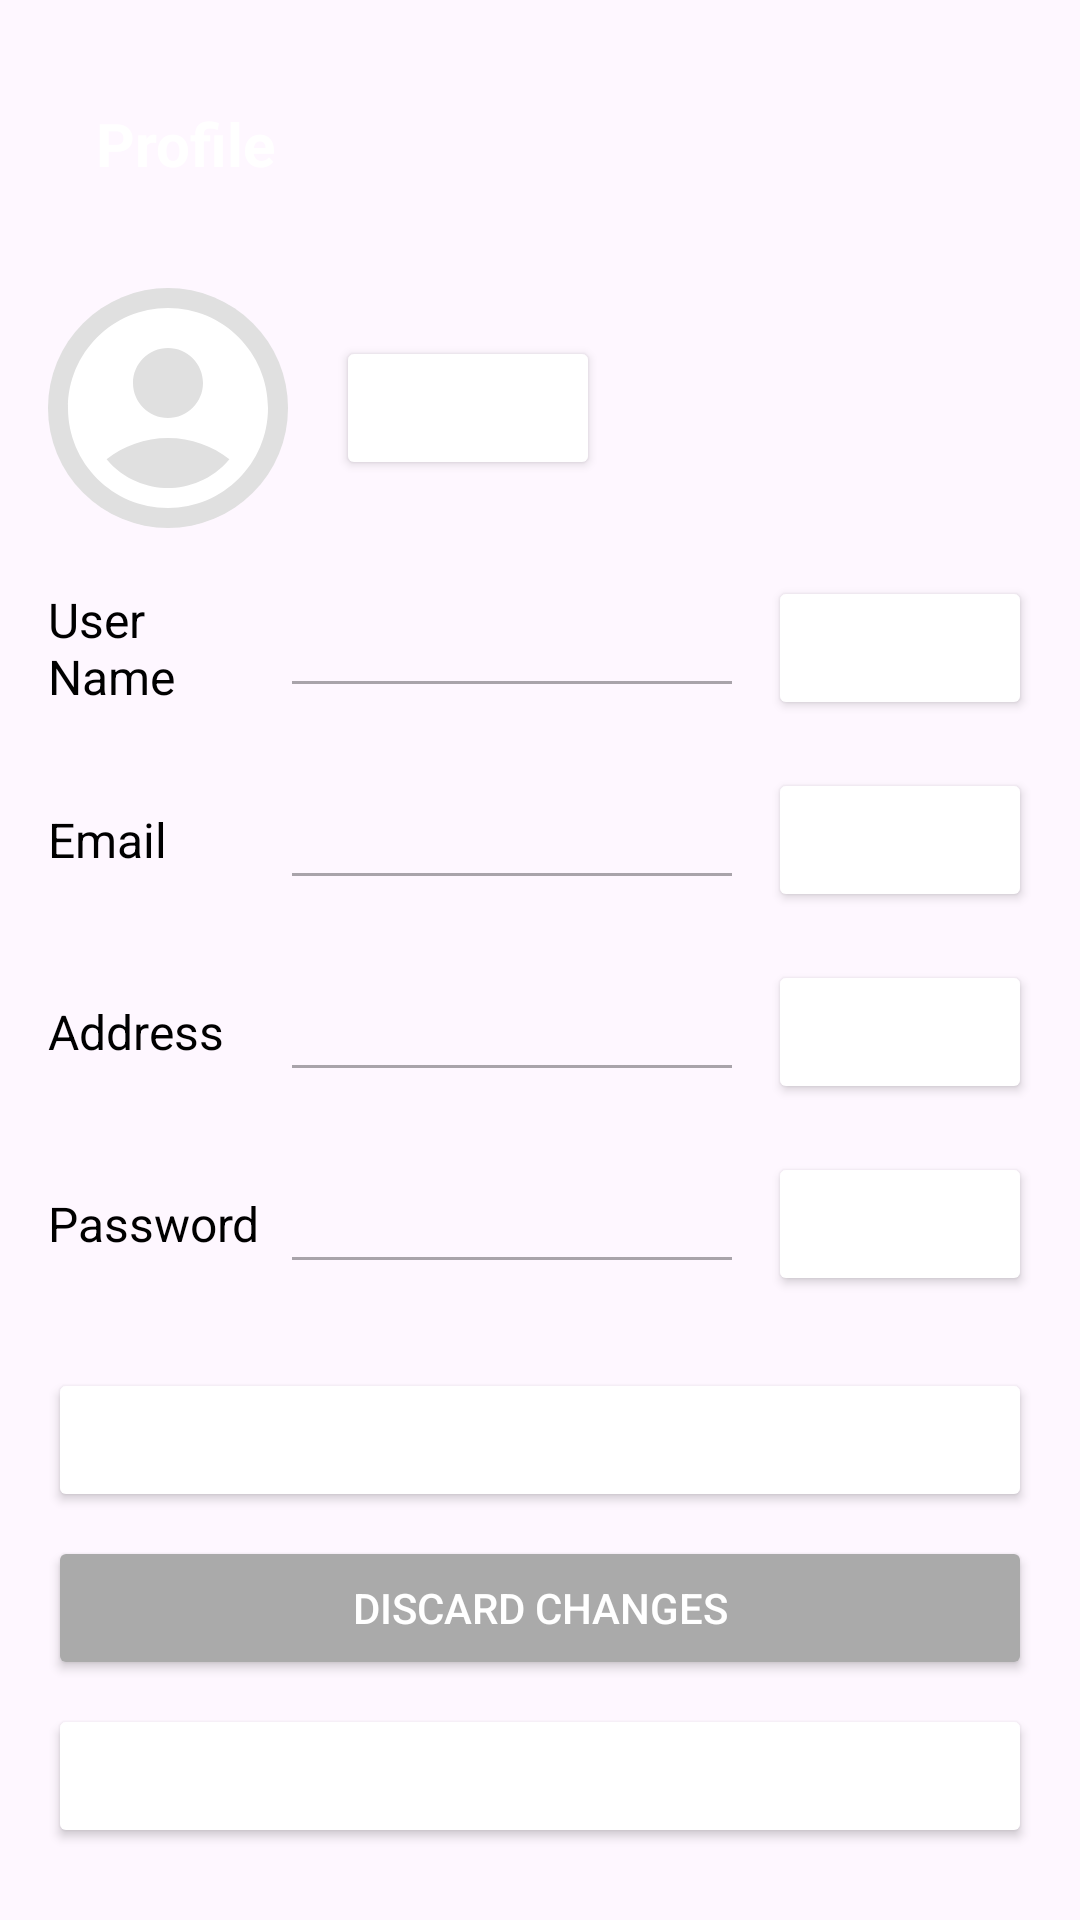

Icon bounding boxes for this 1080 x 1920 phone screenshot, format (x1, y1, x2, y2):
account circle: (48, 288, 288, 528)
